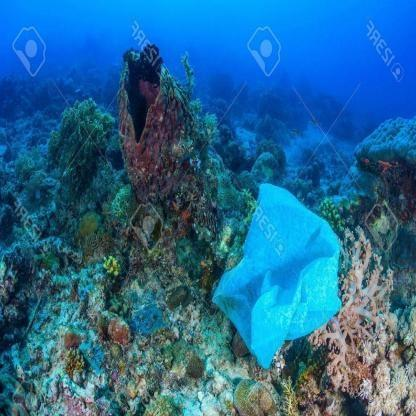pbag: (212, 182, 342, 372)
